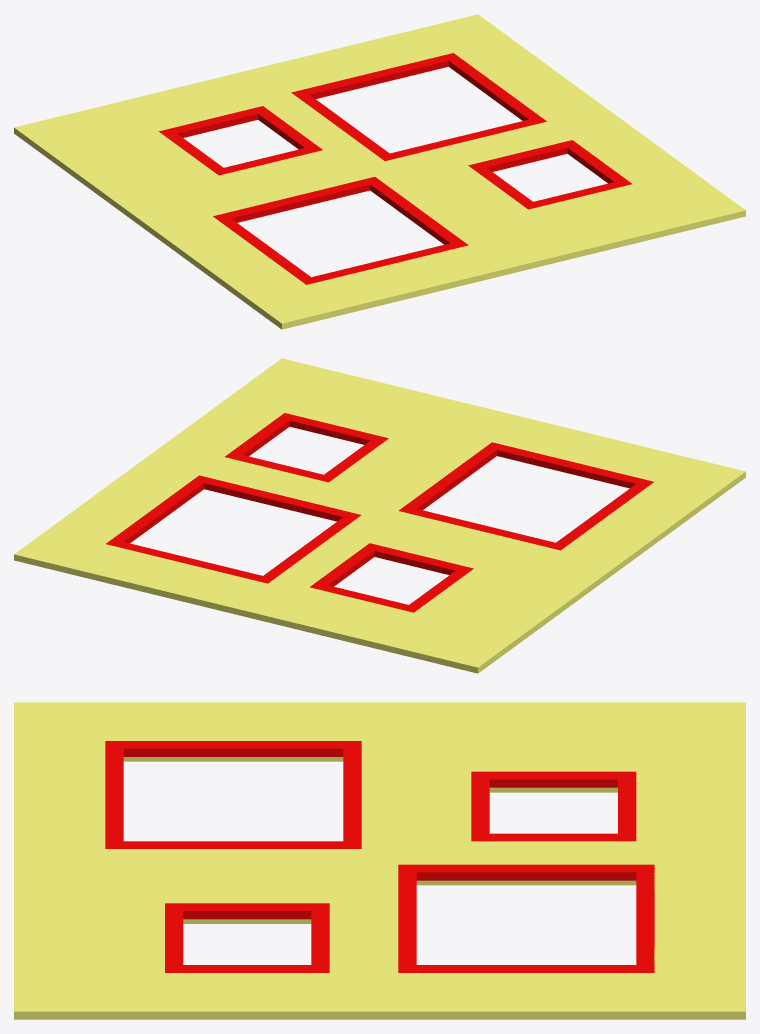
File: set_course.obj
3 views of the same model, one above another, from view 1: azimuth 30°, elevation 25°; view 2: azimuth 150°, elevation 25°; view 3: azimuth 270°, elevation 25° (orthographic). The views are drawn at different scales.
Parts seen in each view (by area): view 1: mesh 2 SetCourse_BaseBoard-1, mesh 1 SetCourse_12inch_Outline-2; view 2: mesh 2 SetCourse_BaseBoard-1, mesh 1 SetCourse_12inch_Outline-2; view 3: mesh 2 SetCourse_BaseBoard-1, mesh 1 SetCourse_12inch_Outline-2.
Boxes of the visible parts, <box> form: mesh 2 SetCourse_BaseBoard-1: <box>14,14,745,329</box>; mesh 1 SetCourse_12inch_Outline-2: <box>159,53,632,284</box>; mesh 2 SetCourse_BaseBoard-1: <box>14,358,745,673</box>; mesh 1 SetCourse_12inch_Outline-2: <box>106,413,653,612</box>; mesh 2 SetCourse_BaseBoard-1: <box>14,702,745,1019</box>; mesh 1 SetCourse_12inch_Outline-2: <box>105,741,654,972</box>.
Size of the model in its own units: 1.02 by 0.0317 by 1.02.
